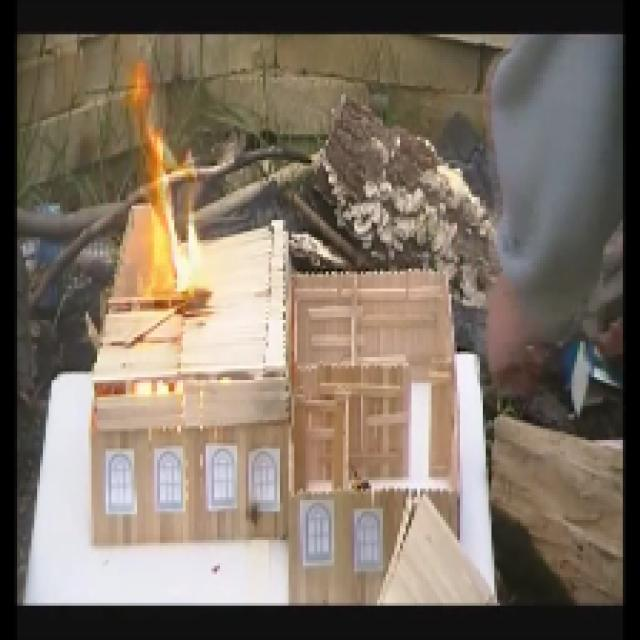Fire: (120, 57, 208, 320)
